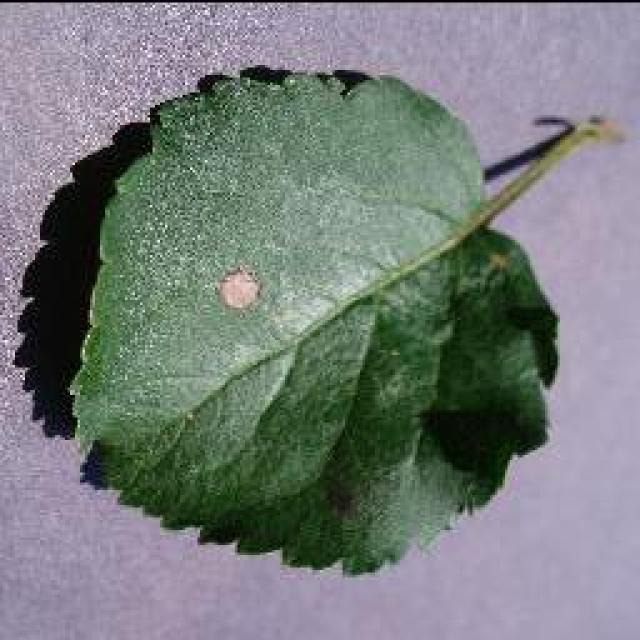Apple___Black_rot: (65, 71, 562, 580)
